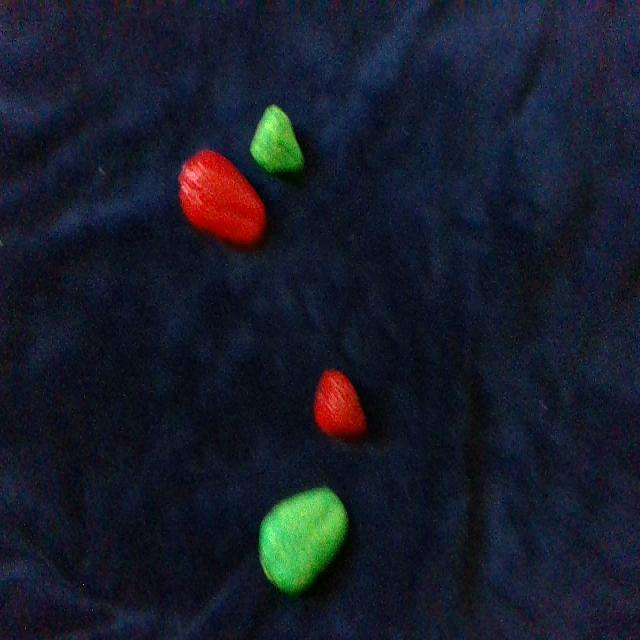chica_roja: (315, 371, 366, 437)
grande_roja: (180, 151, 266, 244)
verde: (260, 488, 348, 593), (251, 105, 303, 172)
